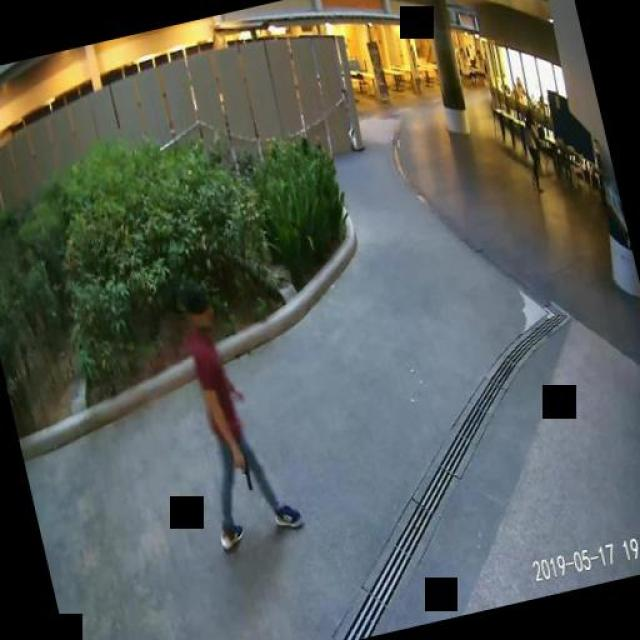gun: (230, 449, 252, 491)
